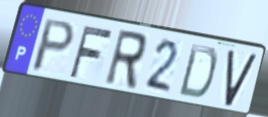2: (141, 37, 181, 98)
D: (176, 42, 219, 101)
F: (67, 23, 116, 80)
P: (29, 17, 78, 74)
R: (101, 28, 149, 93)
V: (223, 49, 260, 108)
